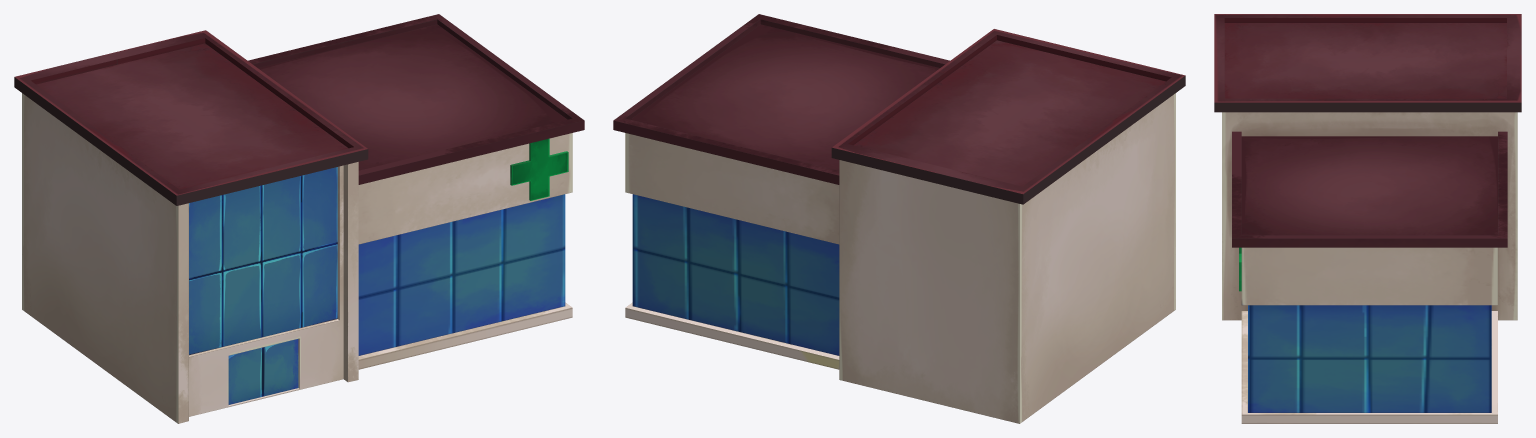
The model's file is SM_ARCH_Hospital.fbx.
3 views of the same model, side by side, from view 1: azimuth 30°, elevation 25°; view 2: azimuth 150°, elevation 25°; view 3: azimuth 270°, elevation 25° (orthographic). The views are drawn at different scales.
Parts seen in each view (by area): view 1: m_hospital; view 2: m_hospital; view 3: m_hospital.
Boxes of the visible parts, left/top/right/bottom form: m_hospital: left=14, top=14, right=584, bottom=423; m_hospital: left=613, top=14, right=1185, bottom=423; m_hospital: left=1214, top=14, right=1521, bottom=423.
Bounding box in the file's own units: 1850 × 985 × 1247.
Materials: 1 (1 with a texture image).
